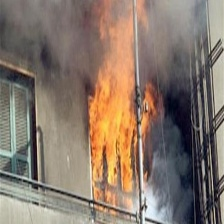fire: (92, 4, 152, 202)
smoke: (6, 1, 92, 86), (149, 2, 211, 79)
